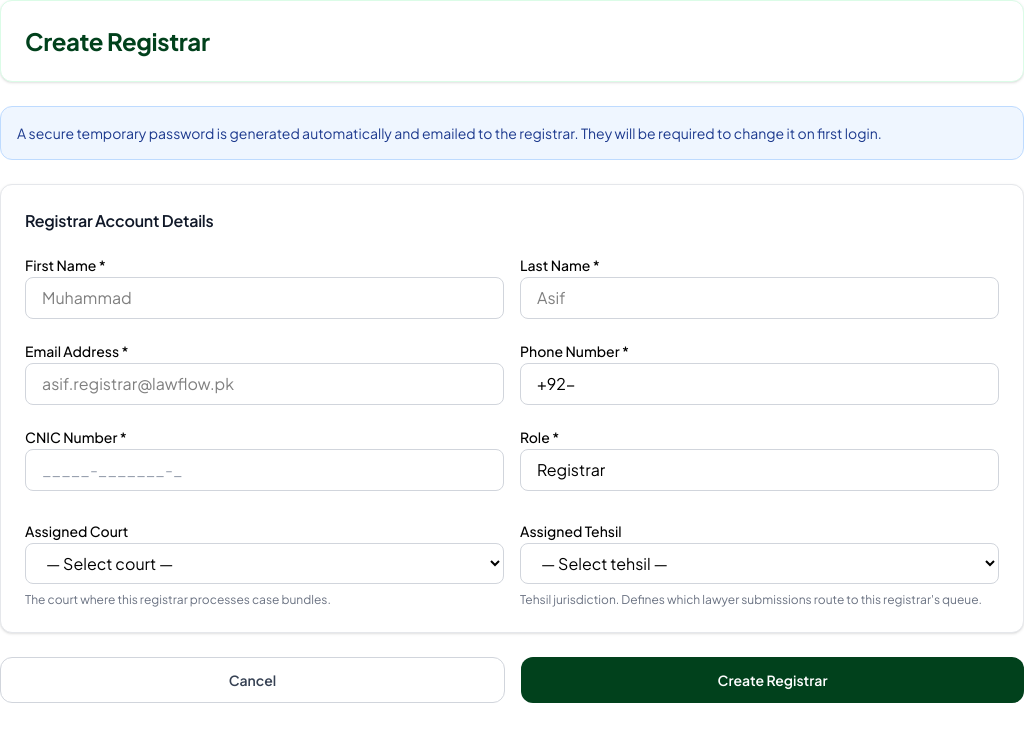
it: RegistrarForm › requires the core fields
Click the button "Create Registrar". click: (772, 680)
box: x1=521 y1=657 x2=1023 y2=703
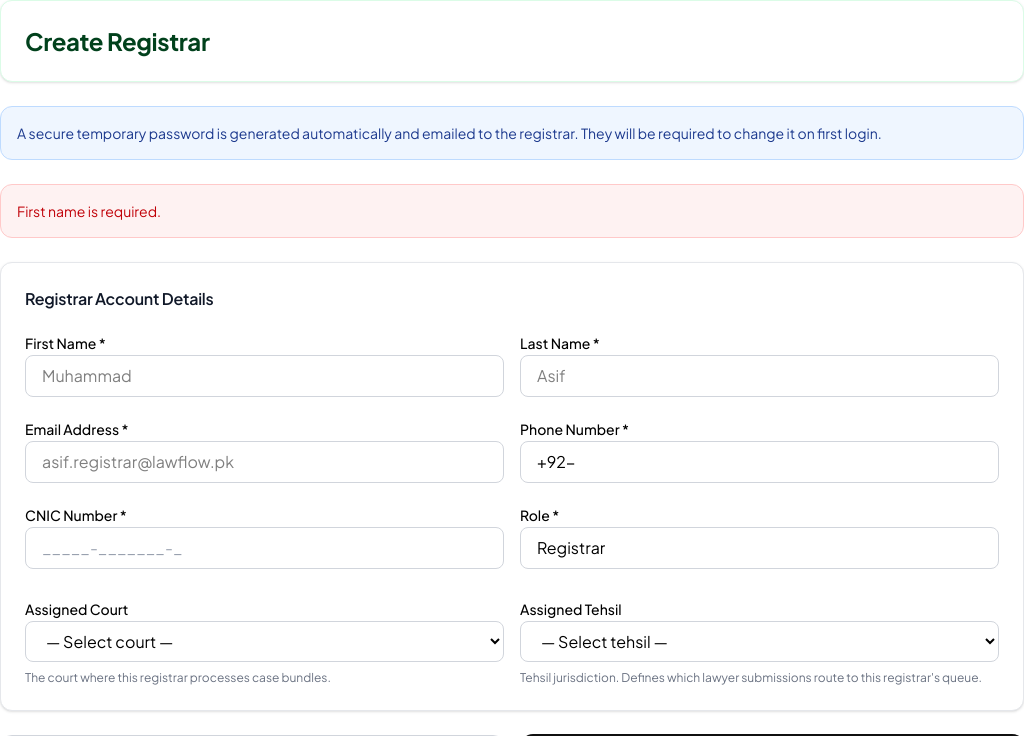
Result: the text "First name is required." is shown at x1=0 y1=184 x2=1023 y2=238
